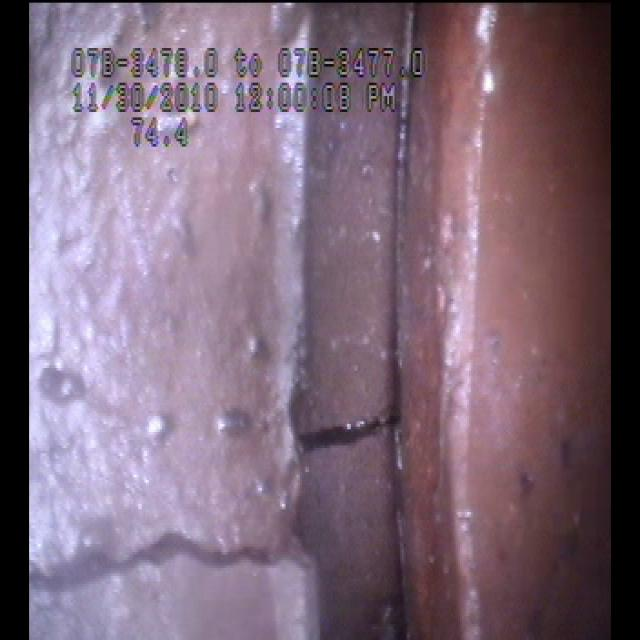Crack: (63, 346, 411, 618)
